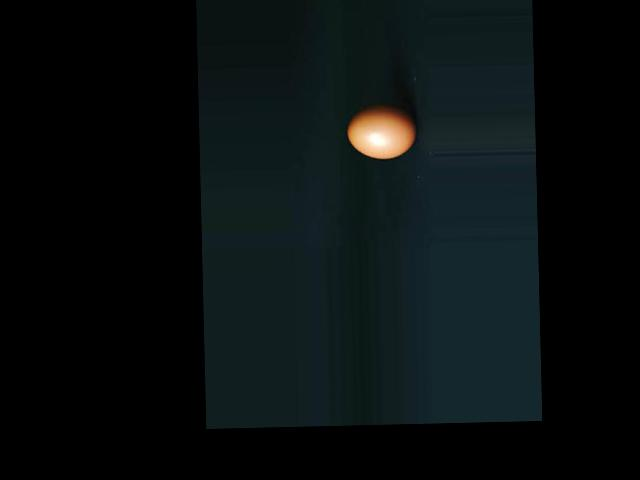egg: (347, 104, 417, 159)
